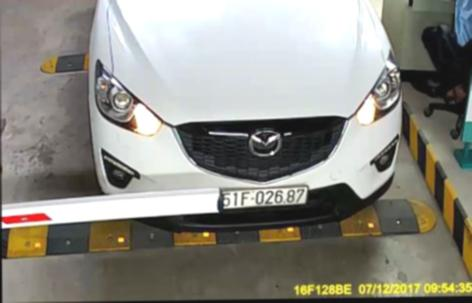License_Plate: (211, 179, 312, 210)
